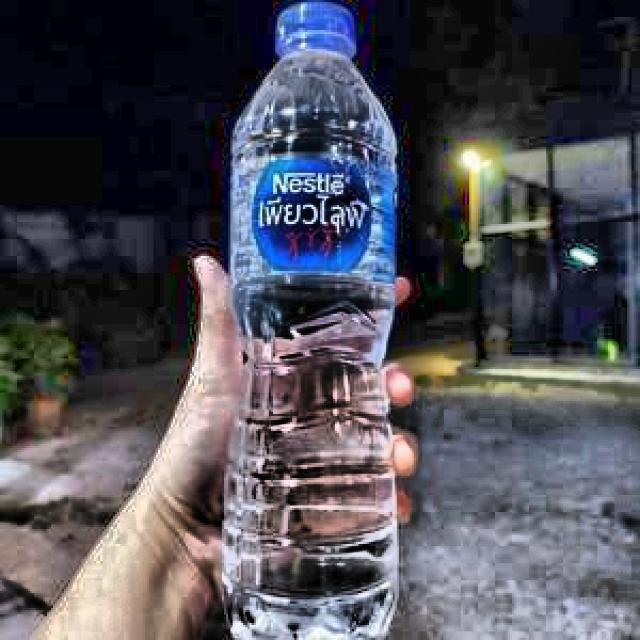Bottles: (196, 2, 431, 640)
